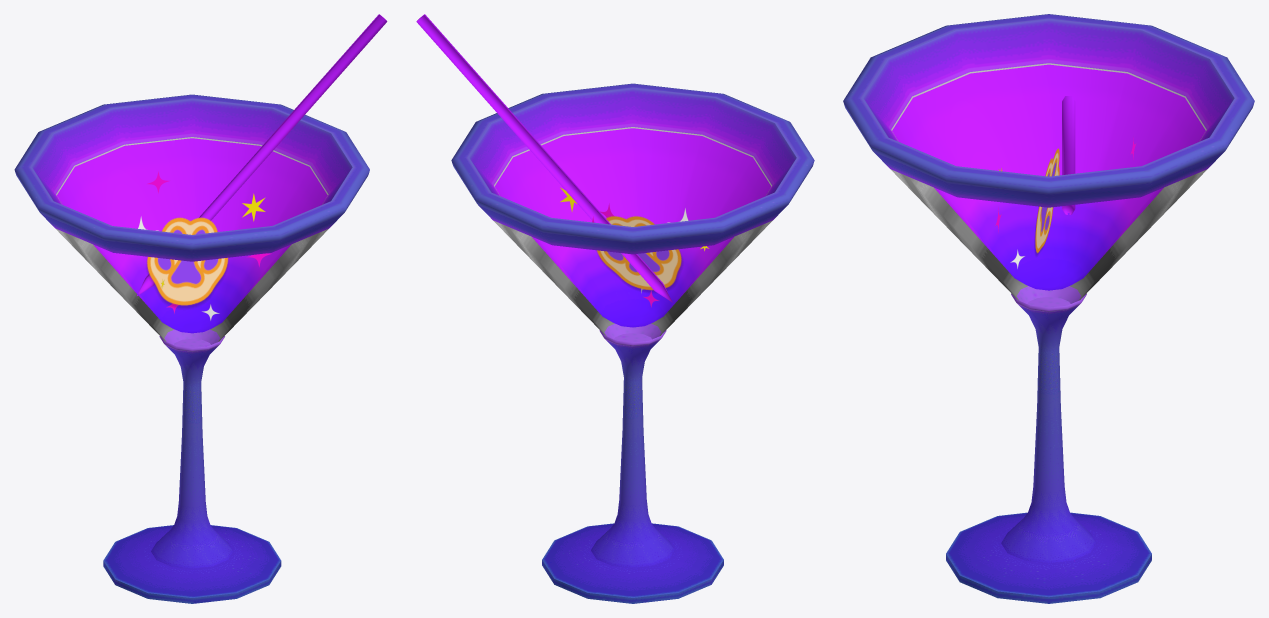
Rendered from Martini.glb.
The picture shows the model from 3 angles, left to right: view 1: azimuth 30°, elevation 25°; view 2: azimuth 150°, elevation 25°; view 3: azimuth 270°, elevation 25°; orthographic projection. The views are drawn at different scales.
Visible parts, largest first — view 1: DrinkMartini; view 2: DrinkMartini; view 3: DrinkMartini.
Boxes of the visible parts, x1,y1,x2,y2 form: DrinkMartini: (14, 14, 387, 603); DrinkMartini: (416, 14, 814, 603); DrinkMartini: (843, 14, 1254, 603).
Size of the model in its own units: 0.3887 by 0.5184 by 0.3361.
Materials: 2 (2 with a texture image).
